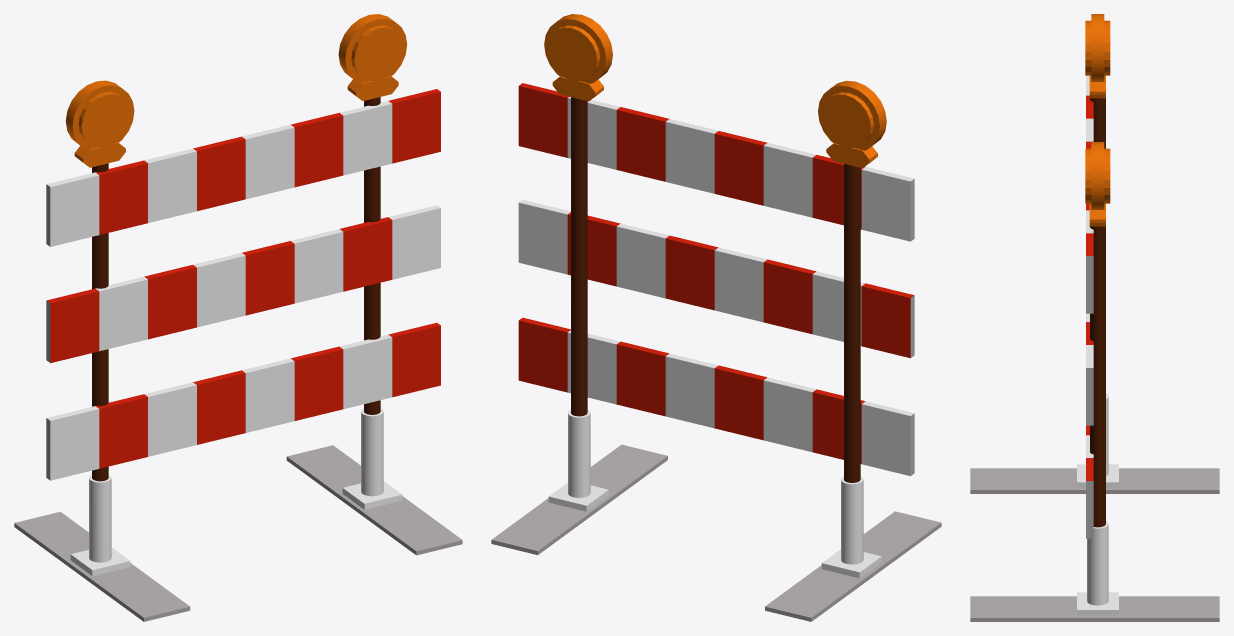
File: barrier-transformed.glb
The picture shows the model from 3 angles, left to right: view 1: azimuth 30°, elevation 25°; view 2: azimuth 150°, elevation 25°; view 3: azimuth 270°, elevation 25°; orthographic projection. The views are drawn at different scales.
Parts seen in each view (by area): view 1: Object_5, Object_4, Object_2, Object_6, Object_8, Object_7, Object_3; view 2: Object_5, Object_4, Object_2, Object_7, Object_6, Object_8, Object_3; view 3: Object_2, Object_7, Object_6, Object_8, Object_3, Object_4, Object_5.
Part boxes in pixels (left/top/right/bottom): Object_5: left=46, top=101, right=440, bottom=480; Object_4: left=47, top=89, right=440, bottom=468; Object_2: left=14, top=445, right=462, bottom=621; Object_6: left=65, top=14, right=407, bottom=167; Object_8: left=70, top=408, right=402, bottom=576; Object_7: left=92, top=97, right=380, bottom=481; Object_3: left=46, top=184, right=50, bottom=480; Object_5: left=518, top=97, right=914, bottom=475; Object_4: left=518, top=83, right=914, bottom=464; Object_2: left=491, top=444, right=941, bottom=621; Object_7: left=571, top=97, right=860, bottom=482; Object_6: left=544, top=14, right=886, bottom=168; Object_8: left=548, top=409, right=881, bottom=578; Object_3: left=910, top=179, right=914, bottom=475; Object_2: left=970, top=468, right=1219, bottom=621; Object_7: left=1090, top=98, right=1105, bottom=527; Object_6: left=1085, top=14, right=1110, bottom=226; Object_8: left=1077, top=393, right=1118, bottom=615; Object_3: left=1086, top=256, right=1093, bottom=538; Object_4: left=1086, top=95, right=1093, bottom=480; Object_5: left=1086, top=75, right=1093, bottom=457.
Bounding box in the file's own units: 3.28 × 3.88 × 1.89.
